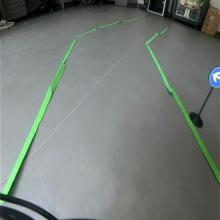left: (208, 65, 220, 88)
